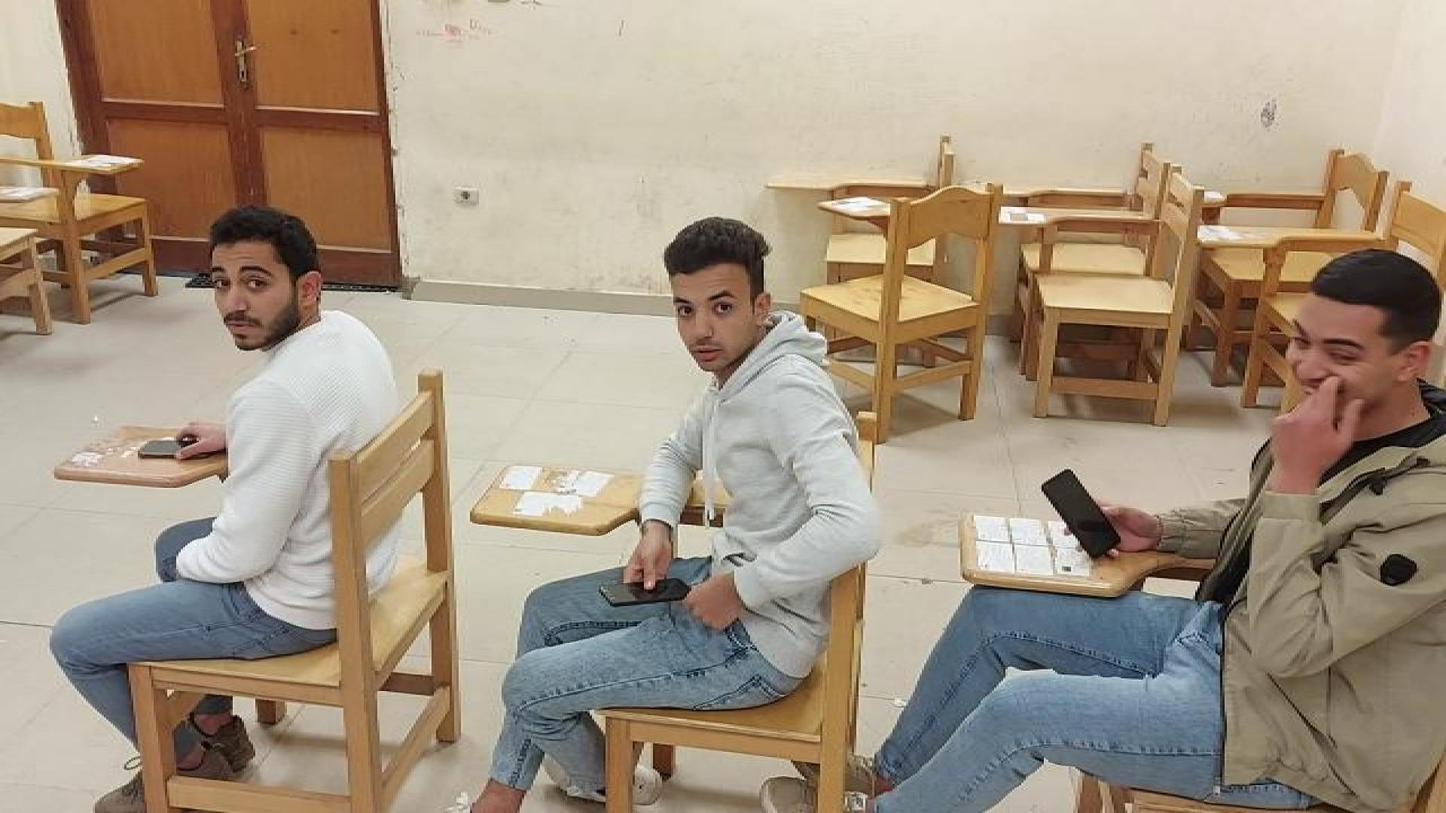phone: (1035, 466, 1130, 565), (598, 576, 695, 608), (132, 435, 209, 467)
